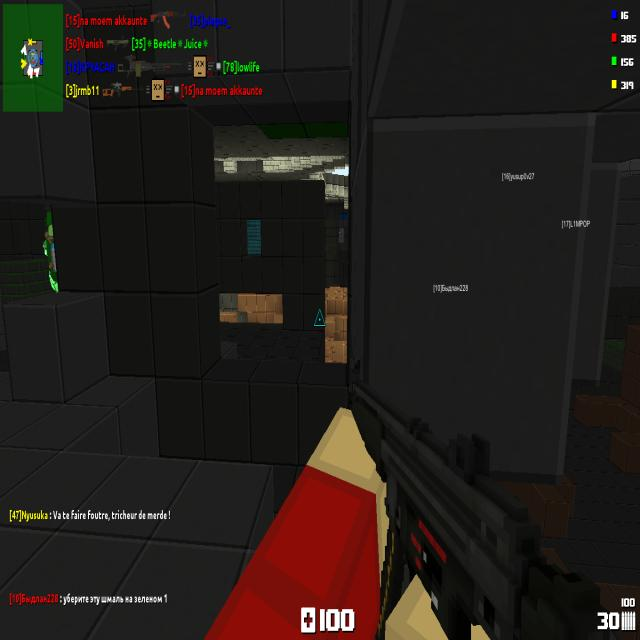enemy: (44, 210, 58, 293)
